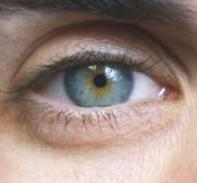eye: (64, 60, 136, 109)
